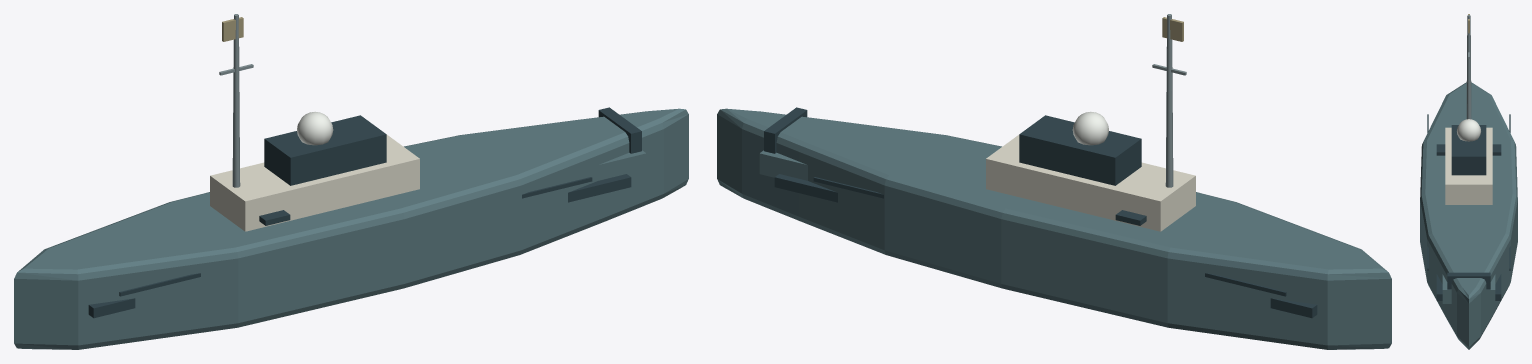
File: patrol.glb
3 renders of one model, left to right at view 1: azimuth 30°, elevation 25°; view 2: azimuth 150°, elevation 25°; view 3: azimuth 270°, elevation 25°, orthographic. The views are drawn at different scales.
Parts seen in each view (by area): view 1: hull, bridge, bridge_wheelhouse, deck, mast, forecastle, radar_dome, rail, breakwater; view 2: hull, bridge, bridge_wheelhouse, deck, mast, forecastle, radar_dome, rail, breakwater; view 3: hull, bridge, bridge_wheelhouse, mast, radar_dome, forecastle, breakwater, deck, bridge_wing (×2).
Boxes of the visible parts, left/top/right/bottom form: hull: left=14, top=108, right=688, bottom=349; bridge: left=210, top=134, right=419, bottom=231; bridge_wheelhouse: left=264, top=115, right=386, bottom=185; deck: left=88, top=174, right=631, bottom=318; mast: left=232, top=14, right=240, bottom=187; forecastle: left=598, top=150, right=646, bottom=180; radar_dome: left=297, top=111, right=333, bottom=145; rail: left=119, top=177, right=592, bottom=296; breakwater: left=598, top=107, right=641, bottom=153; hull: left=717, top=108, right=1391, bottom=349; bridge: left=986, top=134, right=1195, bottom=231; bridge_wheelhouse: left=1019, top=115, right=1141, bottom=185; deck: left=774, top=174, right=1317, bottom=318; mast: left=1165, top=14, right=1173, bottom=187; forecastle: left=759, top=150, right=807, bottom=180; radar_dome: left=1072, top=111, right=1108, bottom=145; rail: left=813, top=177, right=1286, bottom=296; breakwater: left=764, top=107, right=807, bottom=153; hull: left=1420, top=82, right=1517, bottom=349; bridge: left=1445, top=127, right=1492, bottom=204; bridge_wheelhouse: left=1451, top=125, right=1486, bottom=175; mast: left=1466, top=15, right=1471, bottom=119; radar_dome: left=1457, top=119, right=1480, bottom=141; forecastle: left=1442, top=274, right=1495, bottom=303; breakwater: left=1447, top=272, right=1490, bottom=289; deck: left=1436, top=274, right=1501, bottom=300; bridge_wing (×2): left=1436, top=144, right=1501, bottom=155.
Size of the model in its own units: 11.49 by 4.59 by 2.15.
